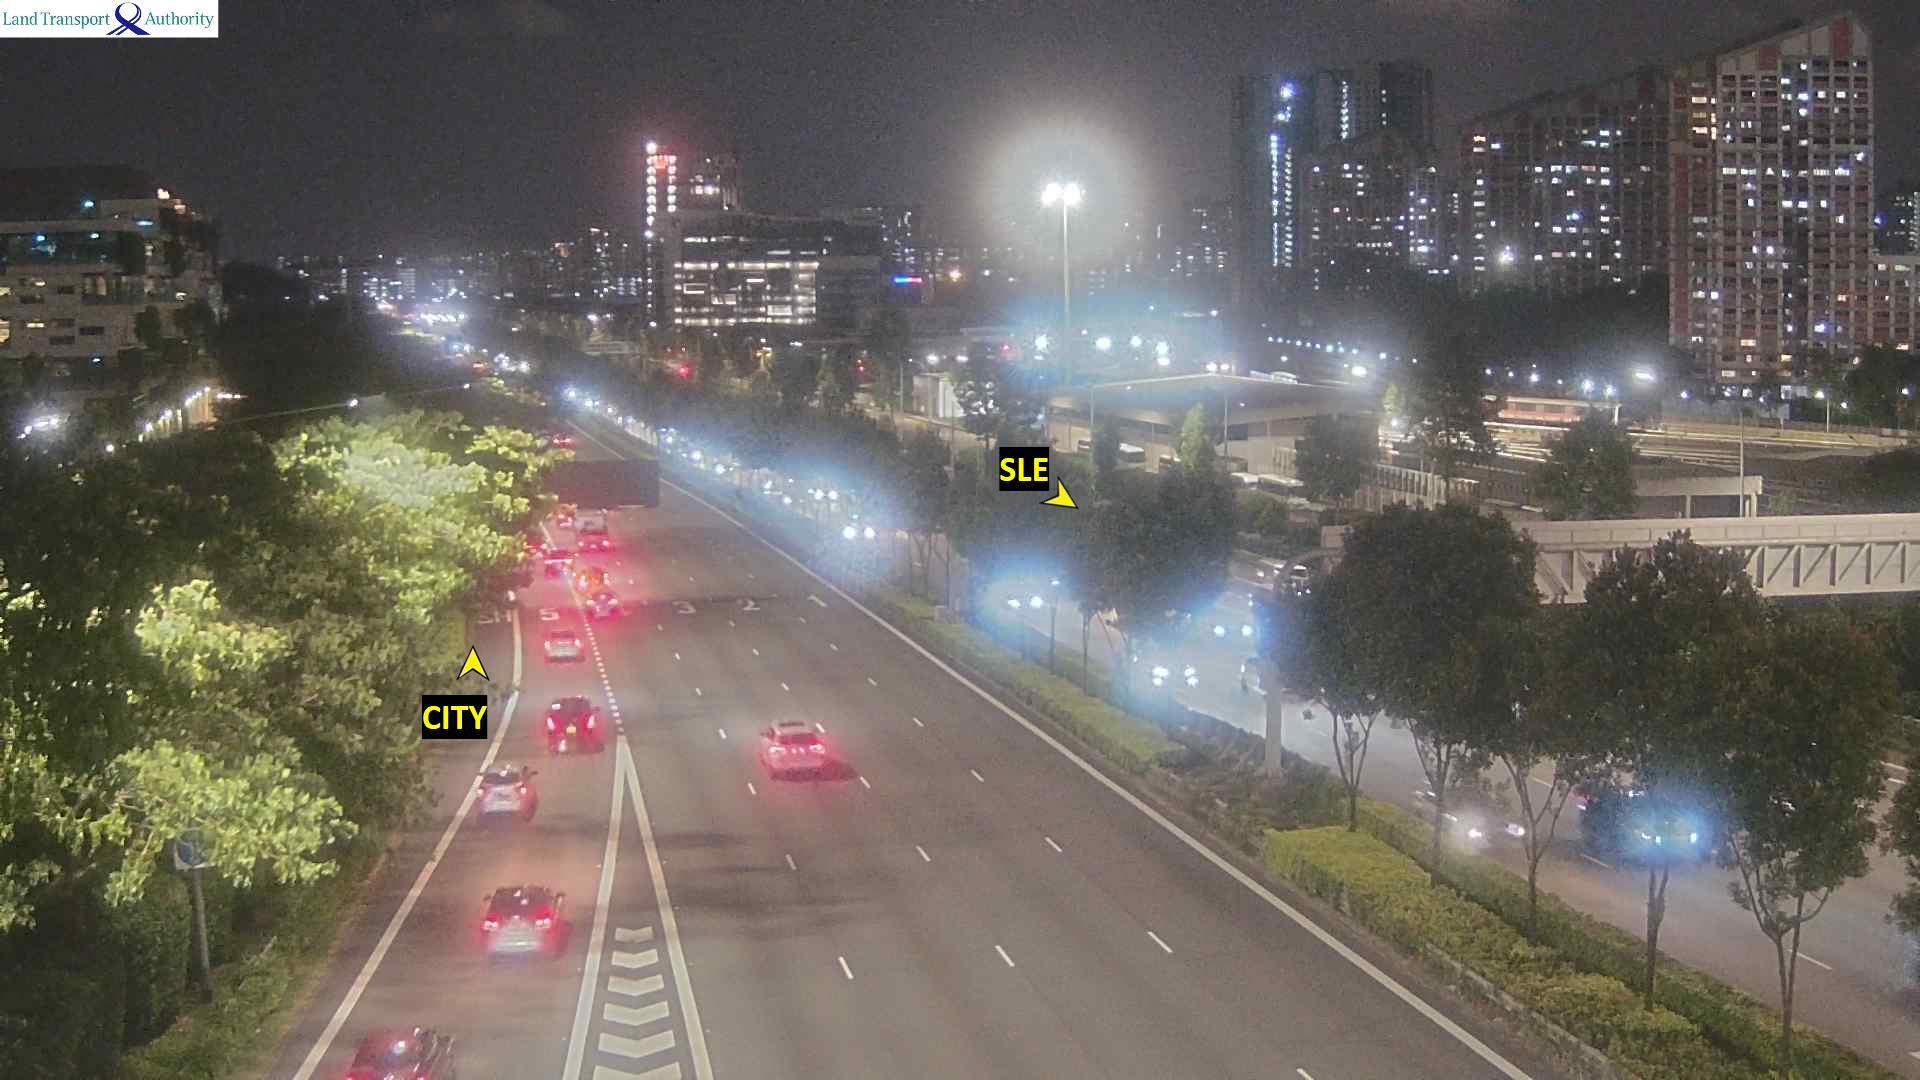incoming: (1619, 794, 1712, 864), (1462, 789, 1536, 855), (1205, 605, 1254, 645)
